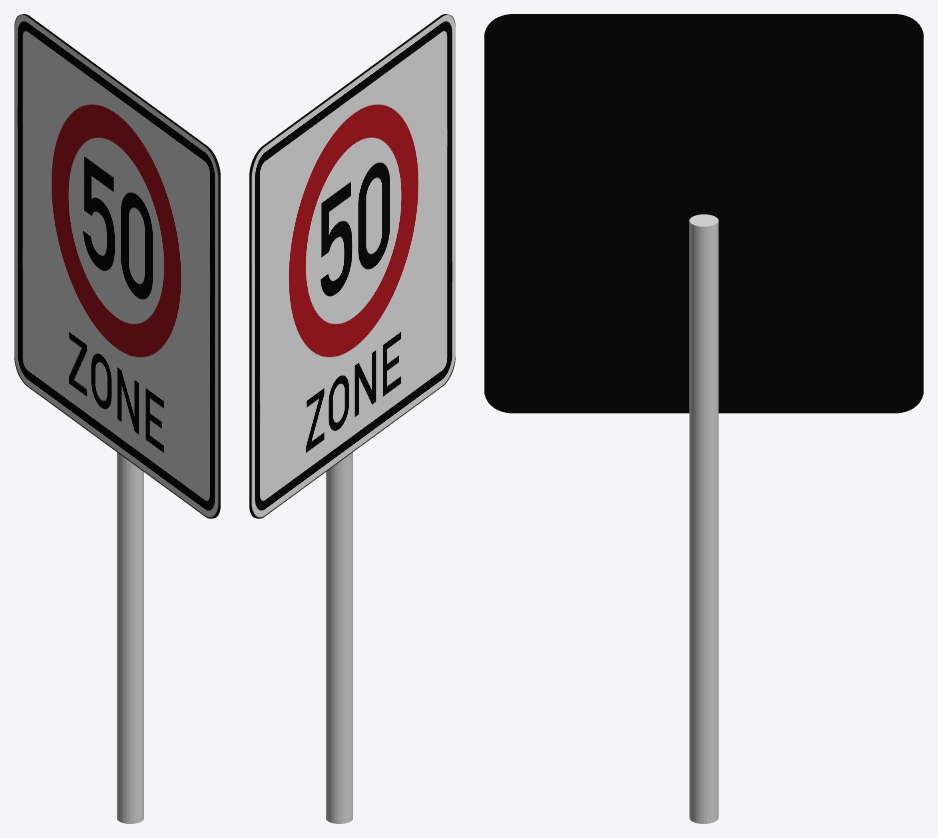
Rendered from speed_limit_zone_50_start_sign.dae.
3 views of the same model, side by side, from view 1: azimuth 30°, elevation 25°; view 2: azimuth 150°, elevation 25°; view 3: azimuth 270°, elevation 25° (orthographic). The views are drawn at different scales.
Parts seen in each view (by area): view 1: path3678, Cylinder; view 2: path3678, Cylinder; view 3: path3678, Cylinder.
Part boxes in pixels (box(x1,y1,x2,y2)): path3678: box(14, 14, 220, 518); Cylinder: box(117, 452, 143, 823); path3678: box(249, 14, 455, 518); Cylinder: box(326, 452, 352, 823); path3678: box(484, 14, 923, 413); Cylinder: box(689, 214, 718, 823).
Size of the model in its own units: 0.011 by 0.15 by 0.3.
Materials: 3 (2 with a texture image).
